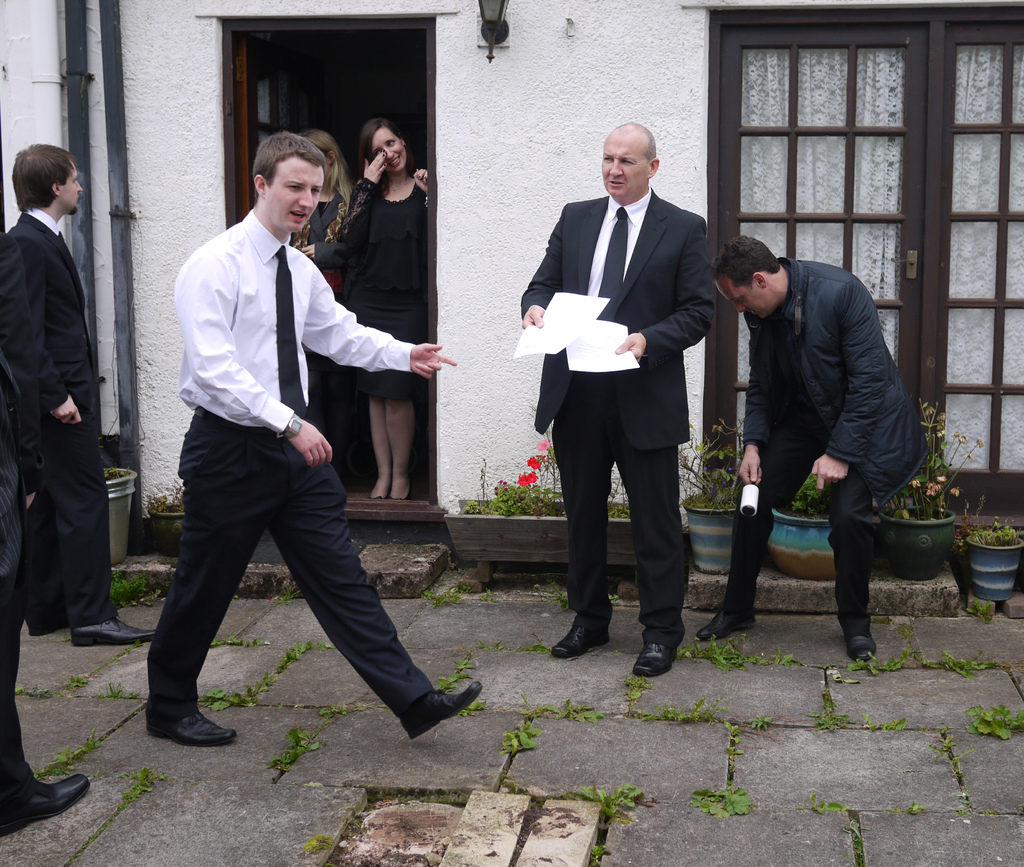Footwear: (2, 748, 78, 836), (397, 681, 485, 740), (143, 711, 237, 749), (70, 618, 155, 646), (698, 603, 759, 639), (552, 626, 610, 660), (632, 645, 678, 677), (844, 633, 875, 661)
